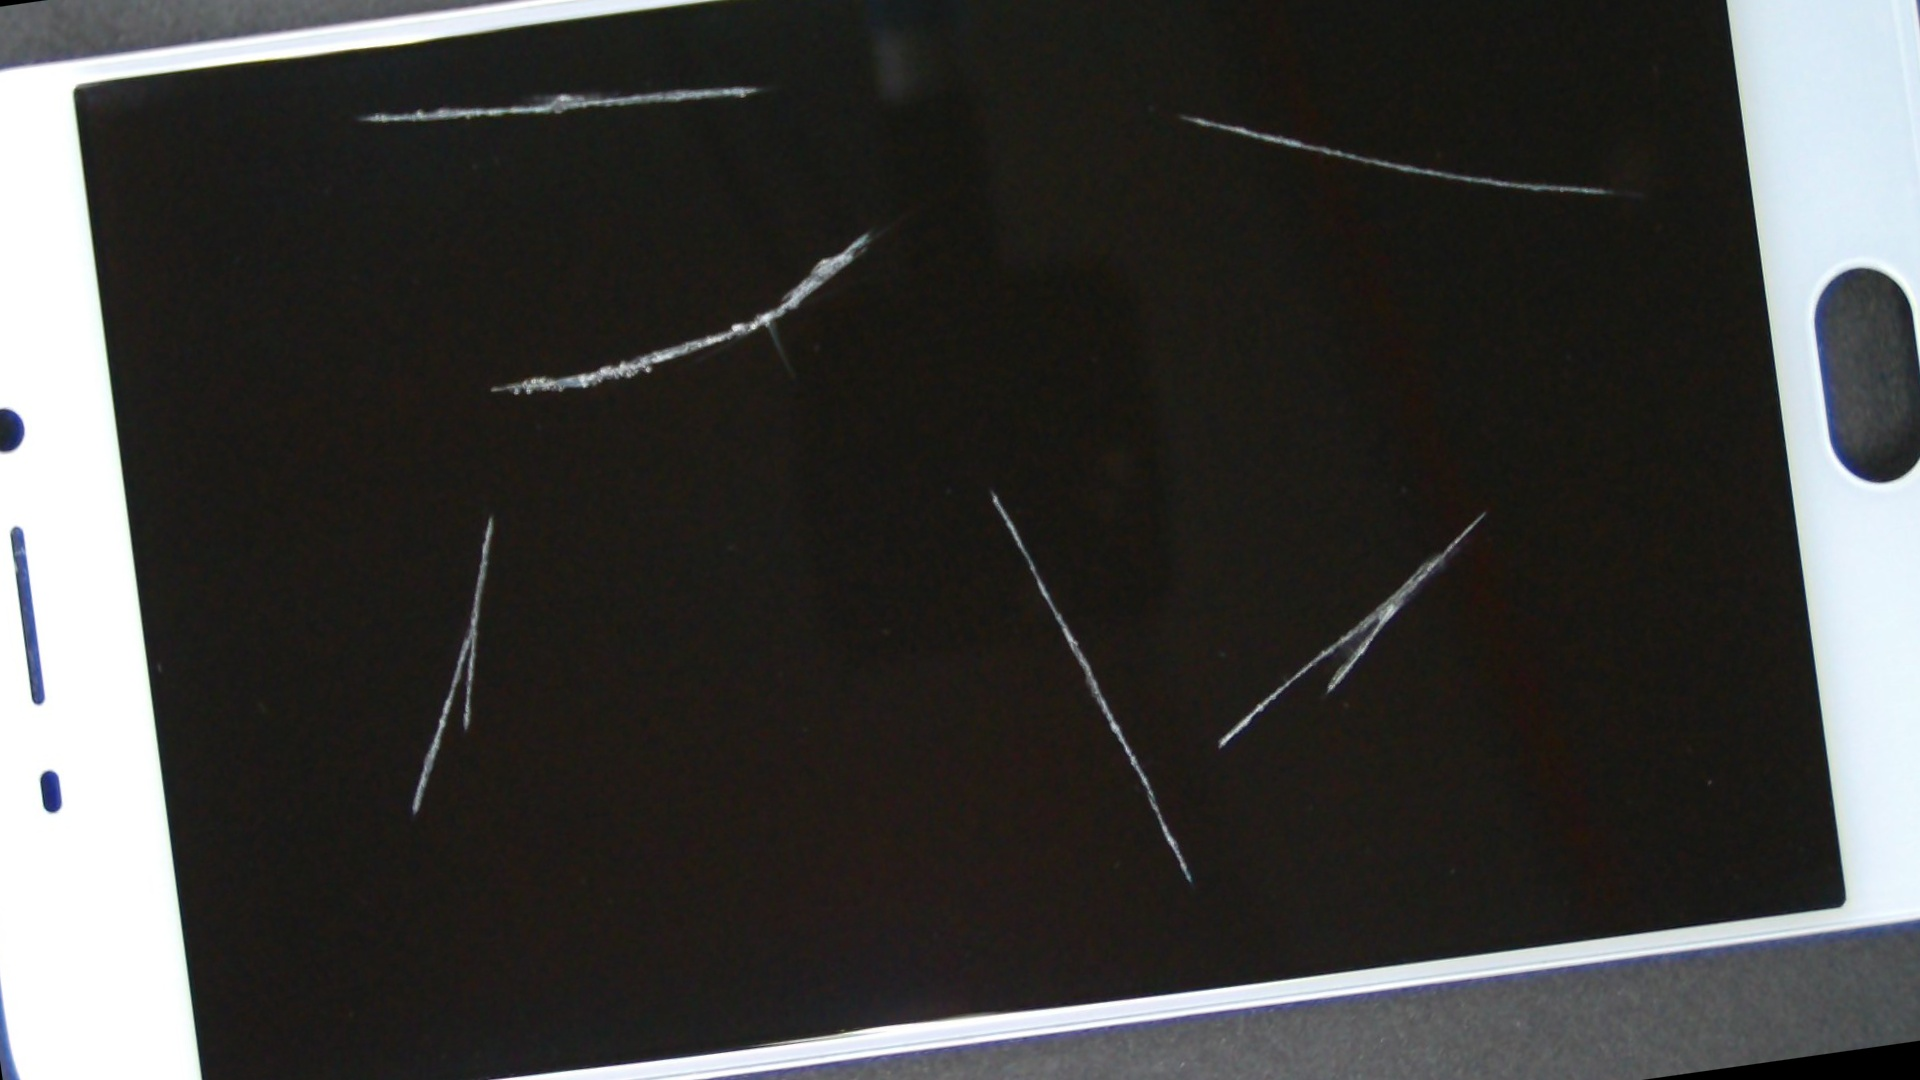oil: (669, 88, 1920, 971), (421, 109, 1556, 869), (363, 0, 1379, 465), (518, 0, 1842, 339), (173, 193, 810, 840), (104, 3, 605, 228)
